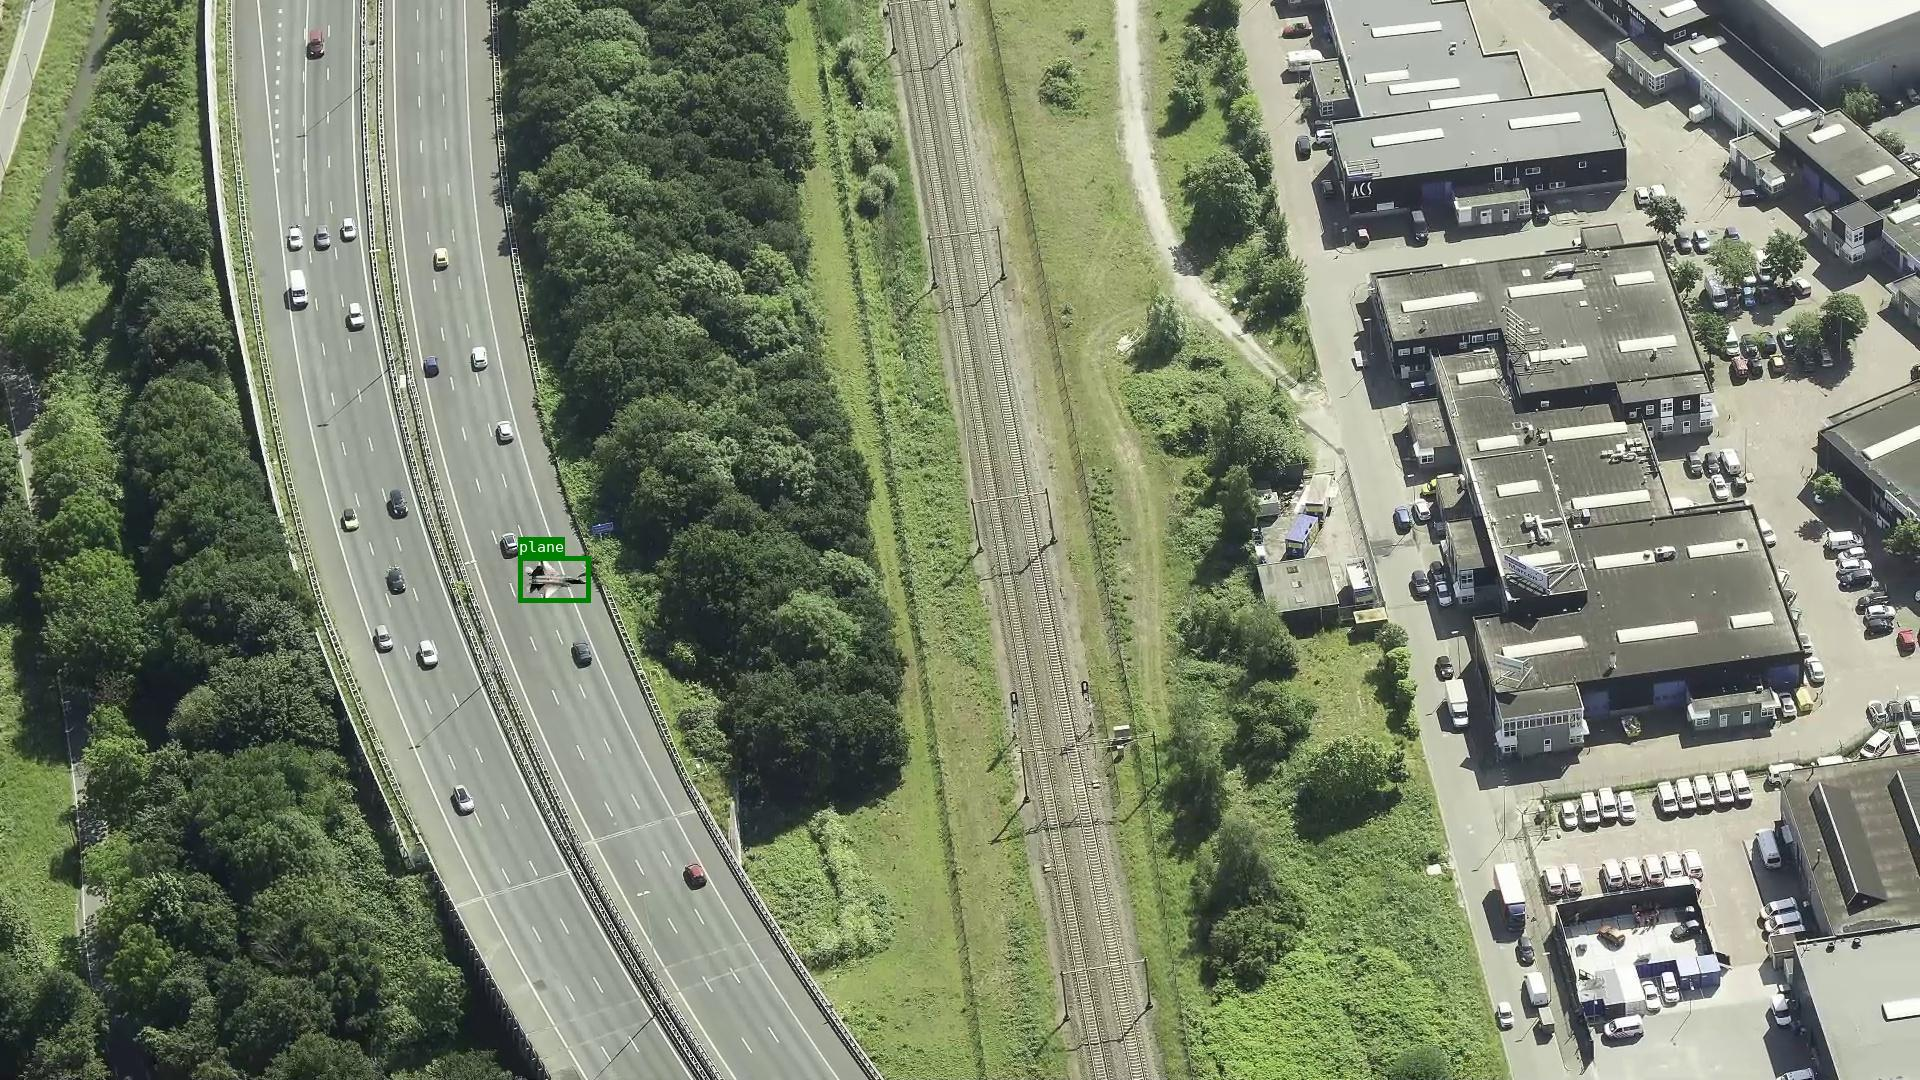plane: (518, 556, 589, 603)
